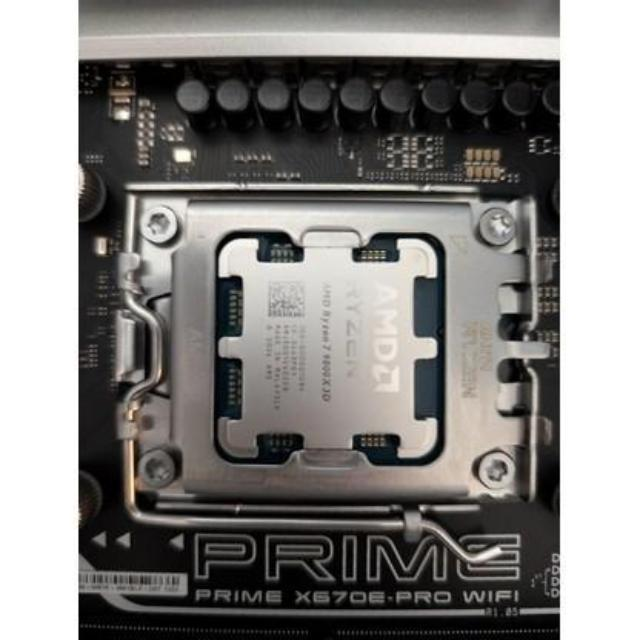CPU: (213, 232, 453, 464)
